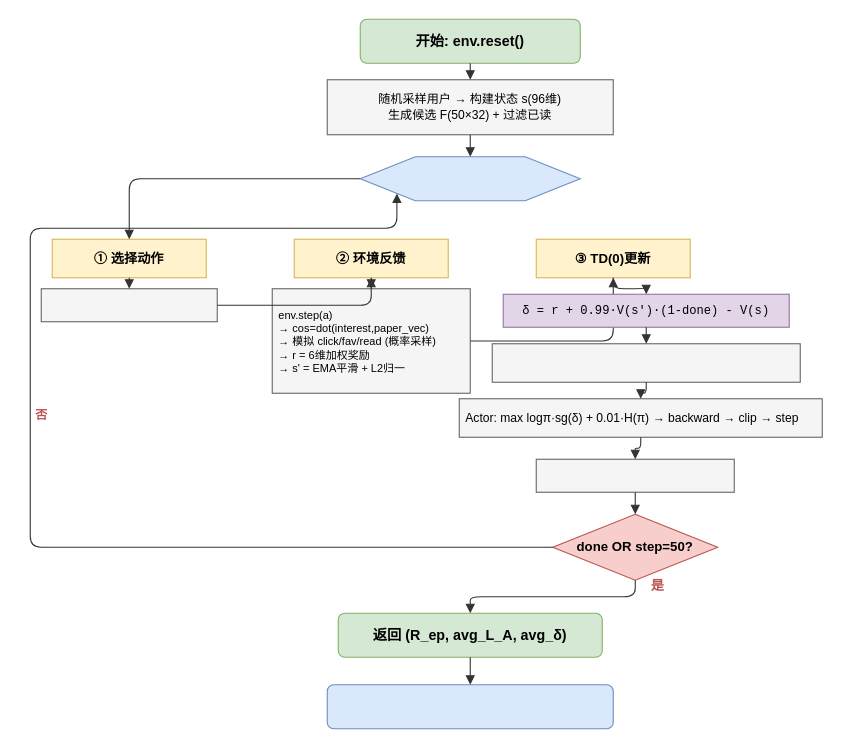
This 842x748 diagram has some shape labels left out. The shapes that lost their labels are listed below. From the top down, each one's centre as x and y in pixels, then its label:
At [469,178]: "FOR step = 1 TO 50".
At [128,305]: "Actor(s, F) → softmax → 采样a".
At [645,362]: "Critic: min δ² → backward → clip_grad → step".
At [634,475]: "epReward += r, s = s'".
At [469,706]: "R_ep > best? → 保存 ac_model.pth".
